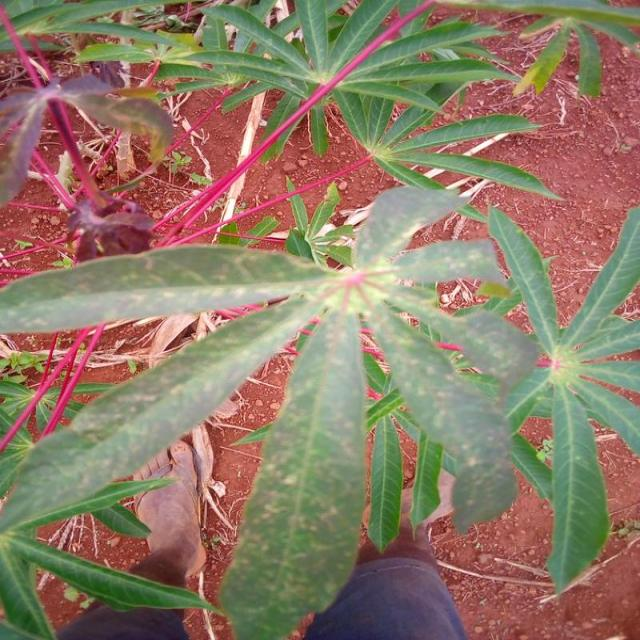cassava leaf: (1, 181, 540, 638), (485, 201, 638, 595), (216, 305, 367, 638)
